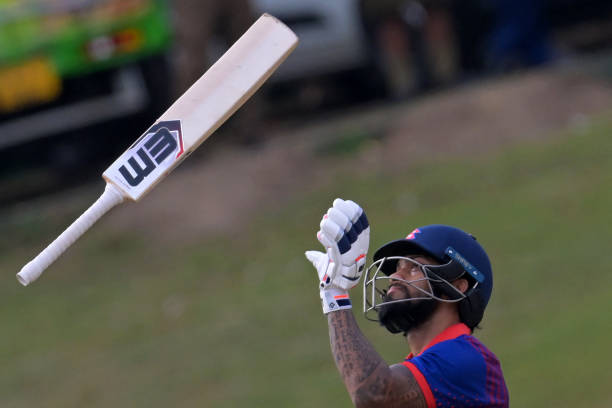bottom left: (246, 6, 275, 35)
bottom right: (285, 32, 308, 55)
top left: (90, 164, 115, 189)
top right: (118, 192, 148, 222)
